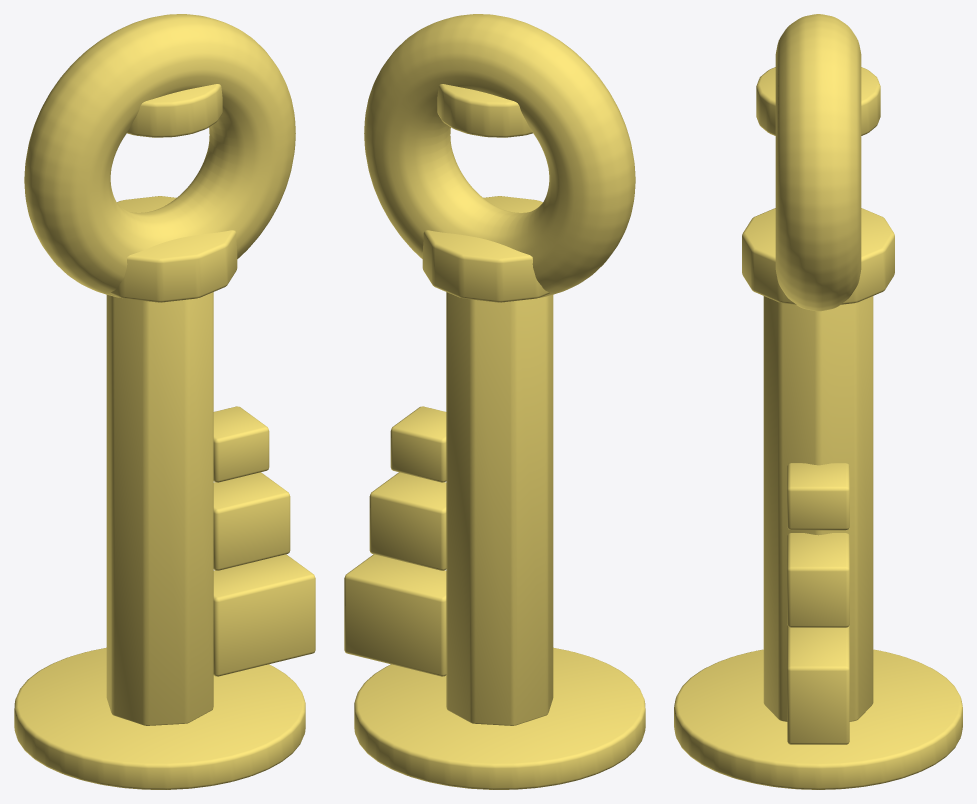
Rendered from key.glb.
3 views of the same model, side by side, from view 1: azimuth 30°, elevation 25°; view 2: azimuth 150°, elevation 25°; view 3: azimuth 270°, elevation 25° (orthographic).
Visible parts, largest first — view 1: CityKey_Mesh; view 2: CityKey_Mesh; view 3: CityKey_Mesh.
Part boxes in pixels (<box>): CityKey_Mesh: <box>14,14,315,789</box>; CityKey_Mesh: <box>344,14,645,789</box>; CityKey_Mesh: <box>674,14,962,789</box>.
Bounding box in the file's own units: 0.0644 × 0.1609 × 0.0599.
